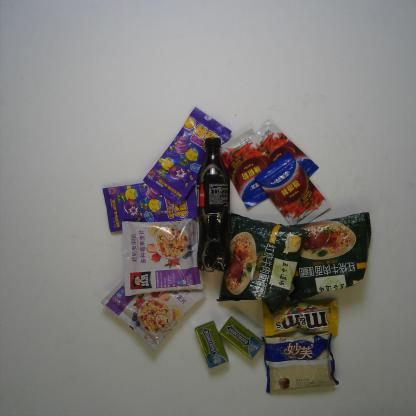Candy: (142, 108, 228, 204), (99, 176, 195, 230)
Chocolate: (262, 294, 342, 340)
Dessert: (267, 332, 347, 391)
Drink: (195, 134, 237, 273)
Gum: (220, 316, 269, 363), (197, 319, 232, 376)
Instant Drink: (104, 267, 214, 355), (120, 216, 208, 304)
Instant Noodles: (281, 205, 379, 300), (220, 212, 305, 312)
Seasoner: (258, 158, 334, 225), (247, 124, 321, 190), (215, 127, 275, 208)
